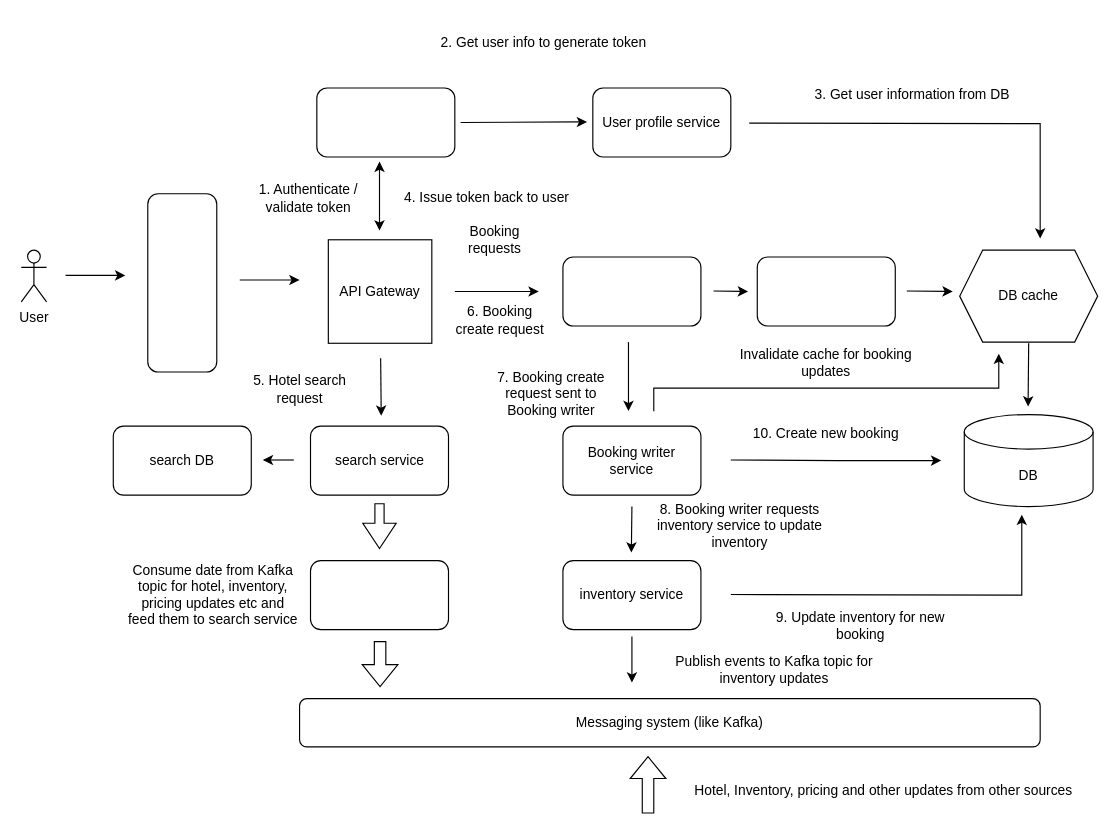
The diagram is 1118 pixels wide and 833 high, and some of its shapes have lost their labels. The centre of each missing label's shape, as x and y in pixels:
Auth service: the point at 385,122
Booking Reader service: the point at 825,291
Booking service: the point at 631,291
CDN: the point at 182,282
search data consumer: the point at 378,594
